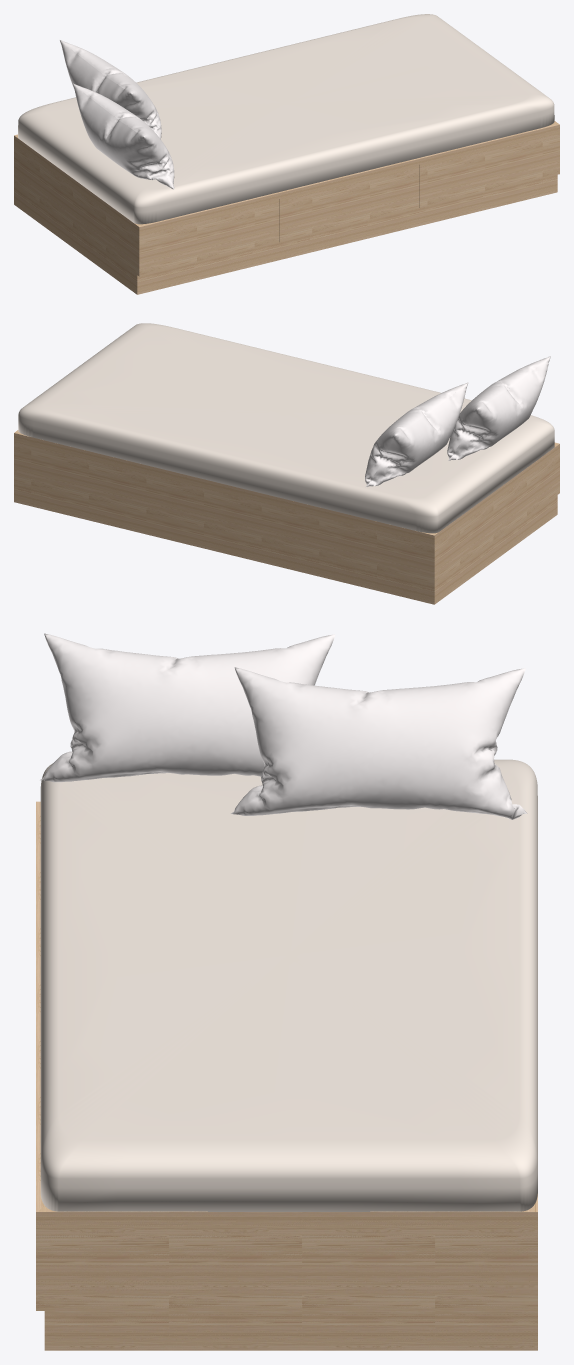
Rendered from bed.dae.
3 views of the same model, one above another, from view 1: azimuth 30°, elevation 25°; view 2: azimuth 150°, elevation 25°; view 3: azimuth 270°, elevation 25° (orthographic). The views are drawn at different scales.
Parts seen in each view (by area): view 1: group_2, group_1, Pattern2D_120 (×2); view 2: group_2, group_1, Pattern2D_120 (×2); view 3: group_2, group_1, Pattern2D_120 (×2).
Part boxes in pixels (<box>): group_2: <box>18,14,554,224</box>; group_1: <box>14,121,559,294</box>; Pattern2D_120 (×2): <box>60,40,174,189</box>; group_2: <box>18,323,554,533</box>; group_1: <box>14,430,559,604</box>; Pattern2D_120 (×2): <box>365,356,550,486</box>; group_2: <box>40,759,537,1211</box>; group_1: <box>36,801,537,1350</box>; Pattern2D_120 (×2): <box>40,633,527,819</box>.
Bounding box in the file's own units: 87.6 × 45.28 × 31.21.
3 materials, 1 textured.
